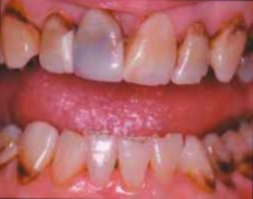Tooth Discoloration: (1, 0, 131, 78), (178, 145, 253, 196), (14, 152, 40, 189)
